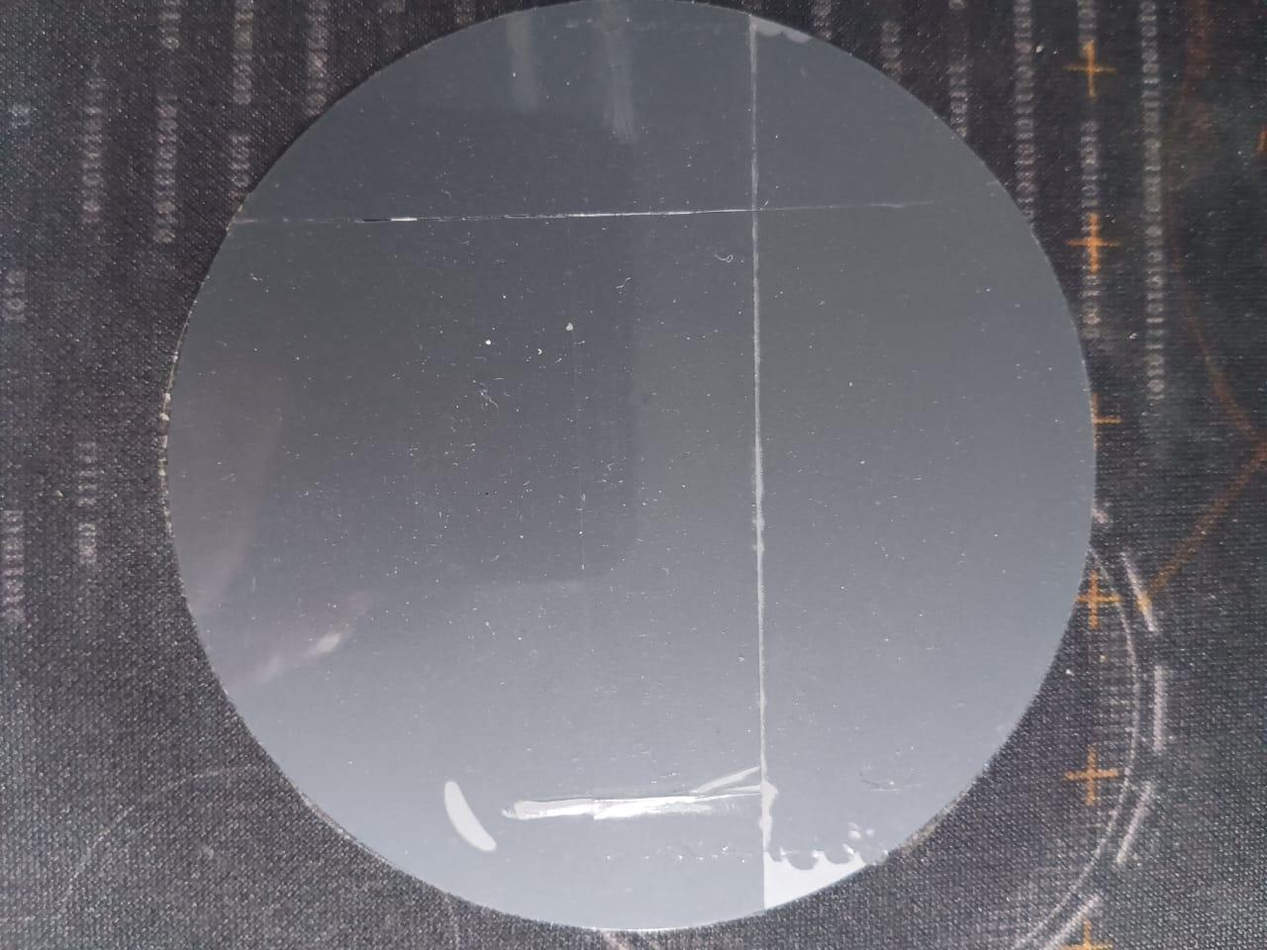crack: (721, 10, 799, 855), (221, 185, 932, 250)
scratch: (512, 765, 762, 841), (747, 830, 871, 910), (426, 764, 502, 863)
